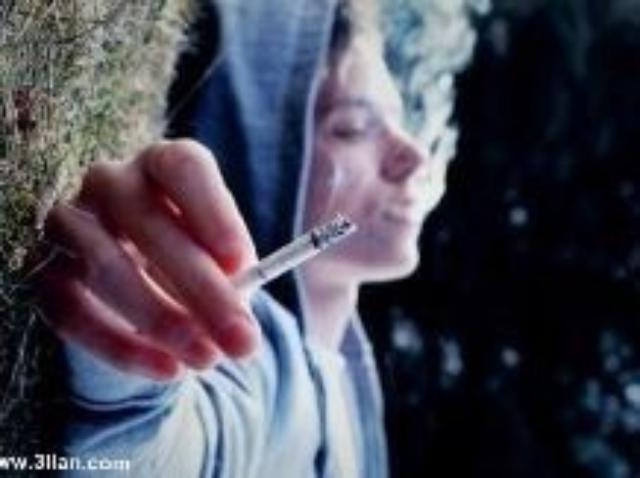Cigarette: (250, 207, 360, 295)
